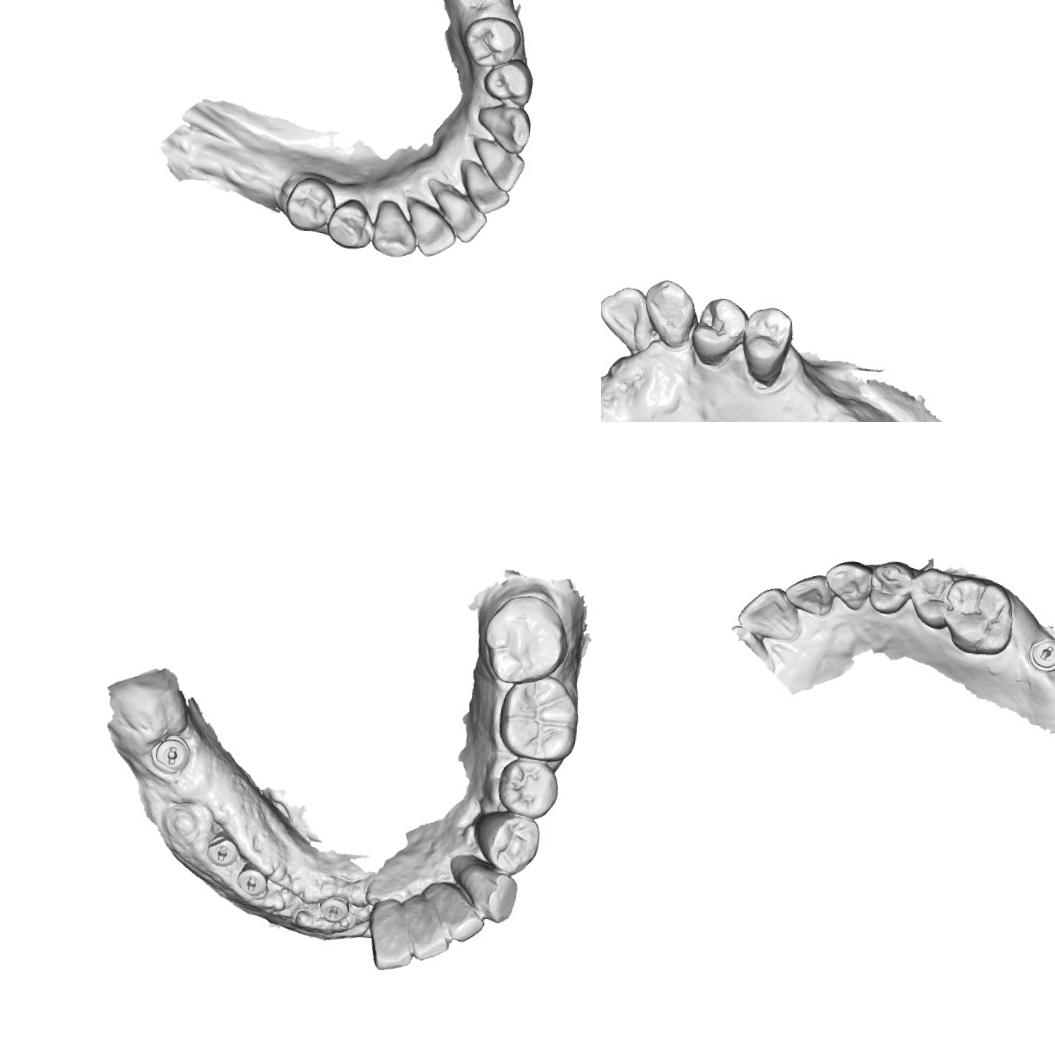canine: (638, 273, 698, 351), (450, 862, 523, 926), (368, 195, 421, 262), (473, 98, 535, 154), (822, 557, 874, 614)
implant_minus: (149, 727, 192, 775), (316, 892, 358, 929), (200, 827, 236, 867), (234, 864, 270, 900), (1025, 635, 1055, 674)
incisor: (734, 582, 804, 646), (430, 176, 490, 246), (601, 282, 657, 354), (400, 894, 455, 964), (368, 898, 418, 973), (403, 199, 459, 259), (455, 156, 511, 216), (430, 886, 486, 944), (470, 138, 526, 194), (780, 570, 836, 621)
molar: (481, 591, 571, 688), (494, 672, 584, 764), (940, 572, 1018, 658)
premolar: (466, 806, 545, 878), (492, 753, 562, 821), (686, 294, 751, 367), (736, 301, 796, 380), (279, 173, 340, 234), (460, 10, 520, 72), (904, 564, 954, 630), (324, 194, 378, 254), (479, 54, 536, 109), (866, 556, 918, 615)
